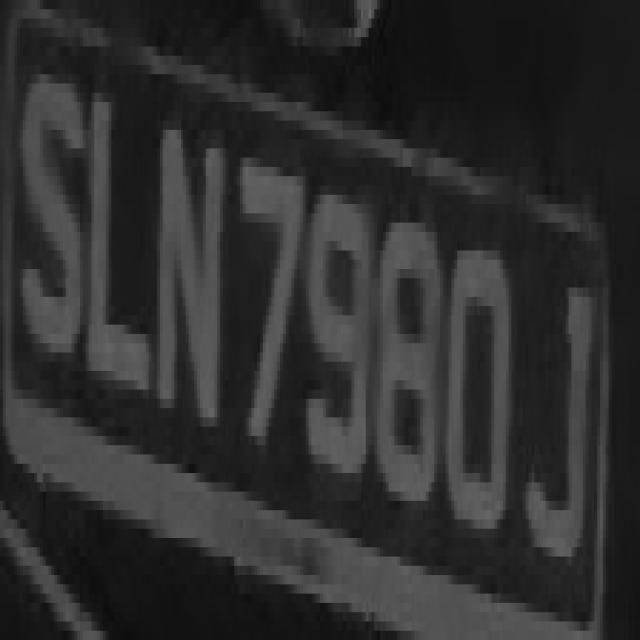0: (446, 195, 517, 566)
7: (231, 102, 303, 501)
8: (368, 148, 443, 538)
9: (303, 130, 371, 510)
J: (529, 232, 594, 584)
L: (83, 65, 148, 408)
N: (146, 92, 228, 426)
S: (17, 28, 77, 362)
